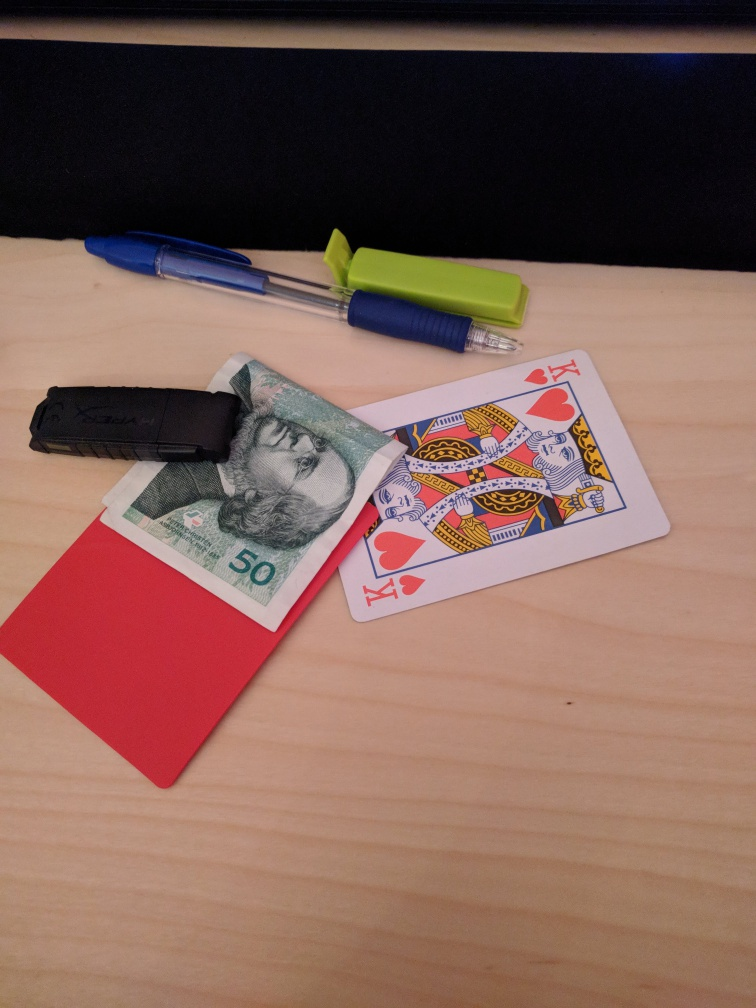king: (335, 348, 672, 624)
